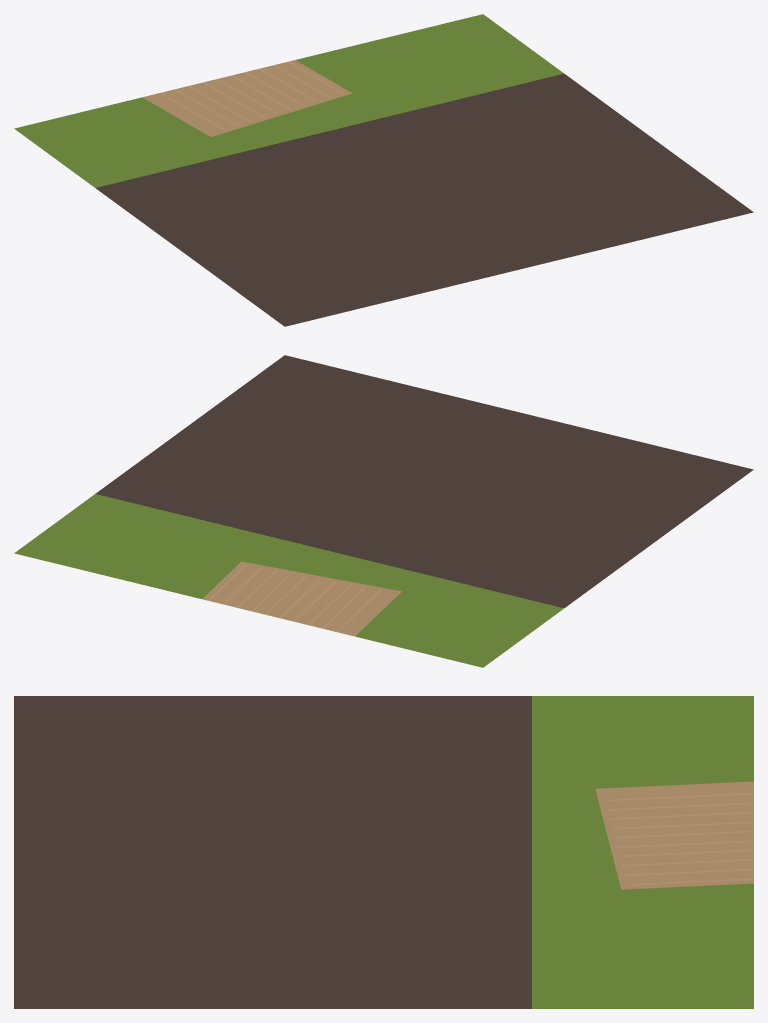
File: crossing-6-2.glb
3 views of the same model, one above another, from view 1: azimuth 30°, elevation 25°; view 2: azimuth 150°, elevation 25°; view 3: azimuth 270°, elevation 25° (orthographic). The views are drawn at different scales.
Visible parts, largest first — view 1: crossing-6-2; view 2: crossing-6-2; view 3: crossing-6-2.
Part boxes in pixels (bbox=[...]): crossing-6-2: bbox=[14, 14, 753, 326]; crossing-6-2: bbox=[14, 355, 753, 667]; crossing-6-2: bbox=[14, 696, 753, 1008].
Bounding box in the file's own units: 100 × 0.0064 × 100.
